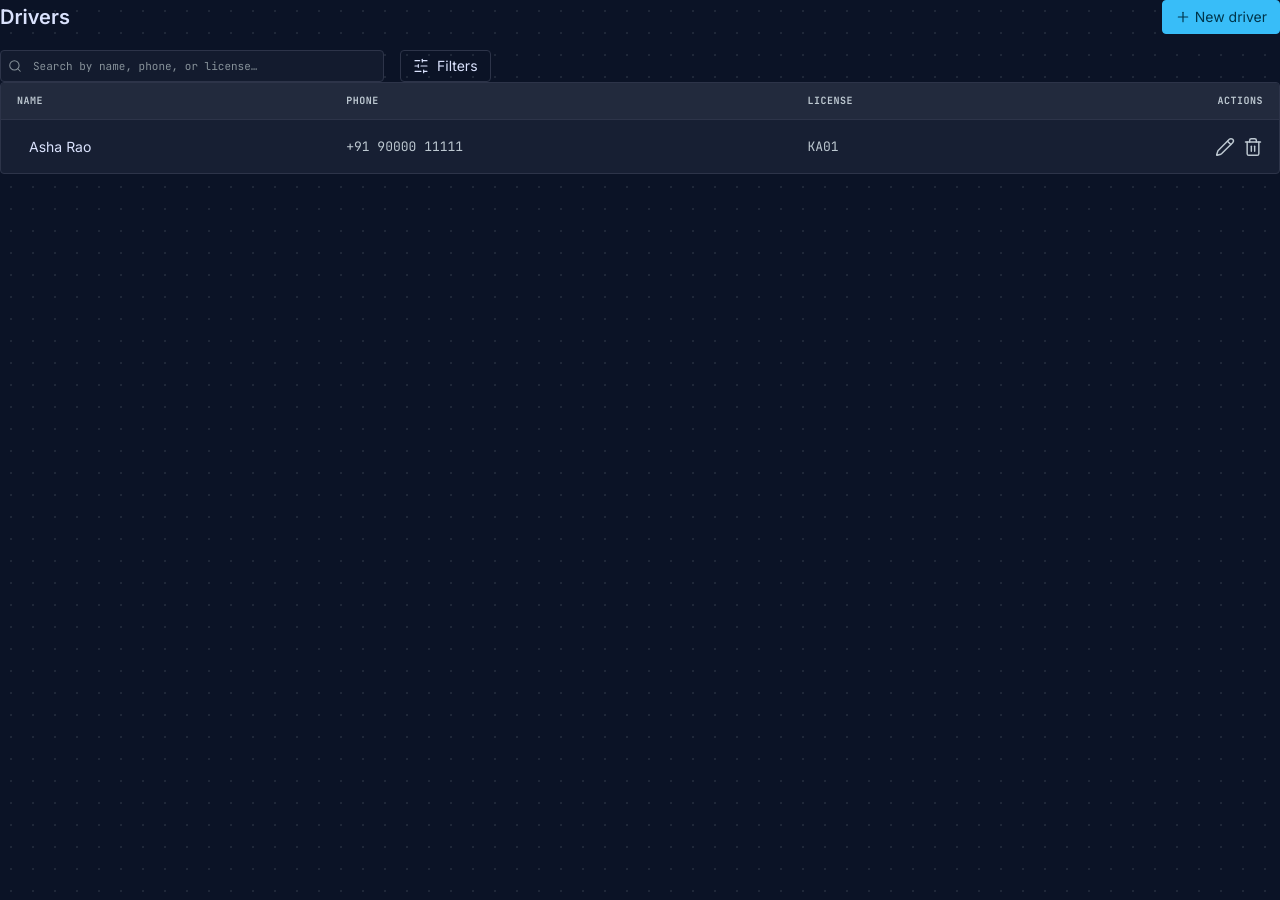
Scenario: Drivers page › requires a name and a license before submitting
Check: the text "Asha Rao" is shown, box [29,136,91,156]
Click the button "New driver" at point(1221, 17), box [1162,0,1279,34]
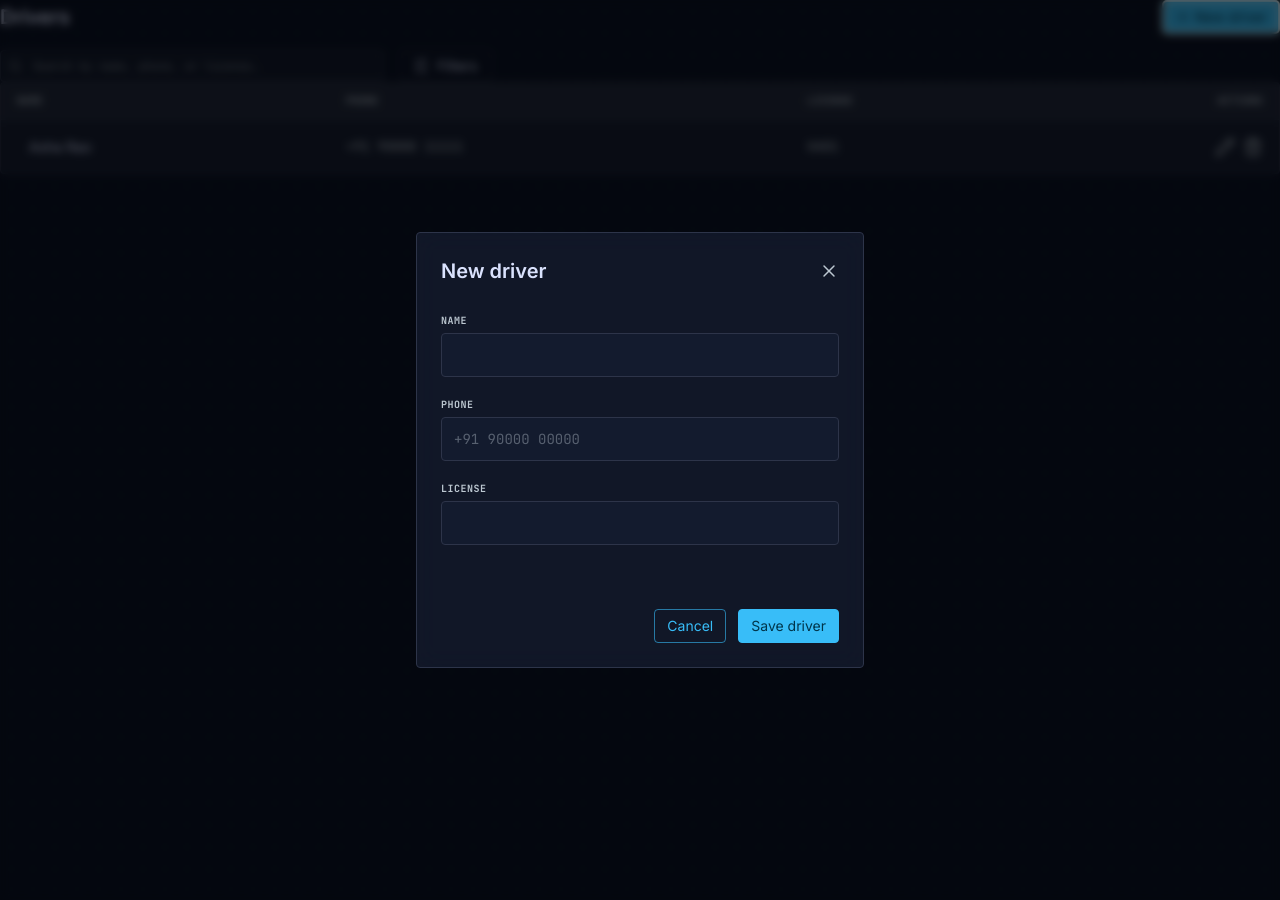
Submit a blank form: name, phone, and license all invalid.
Click the button "Save driver" at point(789, 626), box [738,609,839,643]
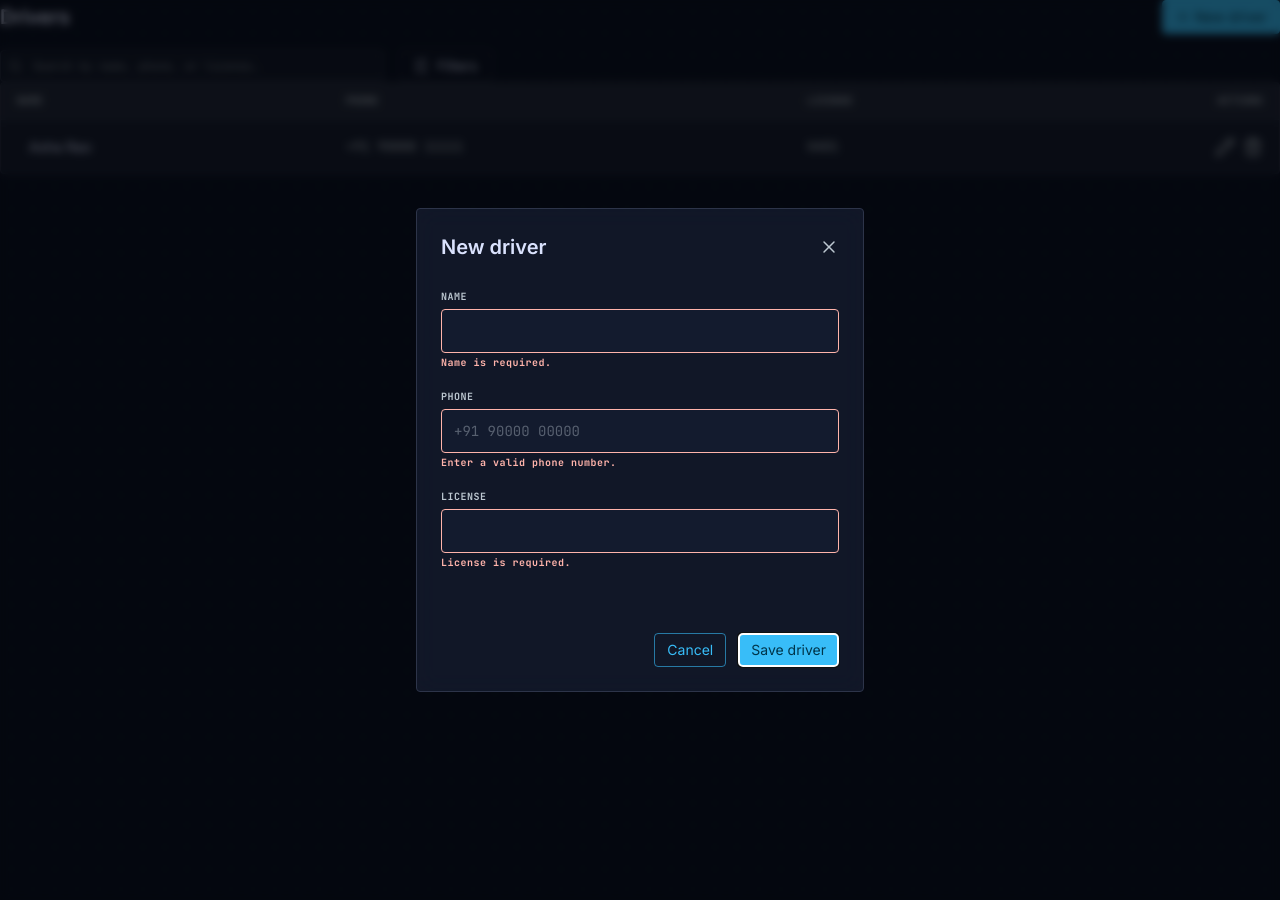
Check: the text "Name is required." is shown, box [441,356,552,369]
Check: the text "License is required." is shown, box [441,556,571,569]
